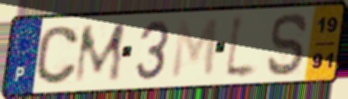3: (134, 18, 171, 84)
C: (33, 24, 81, 86)
L: (221, 11, 261, 82)
M: (71, 20, 128, 86), (169, 16, 220, 82)
S: (265, 11, 311, 78)
